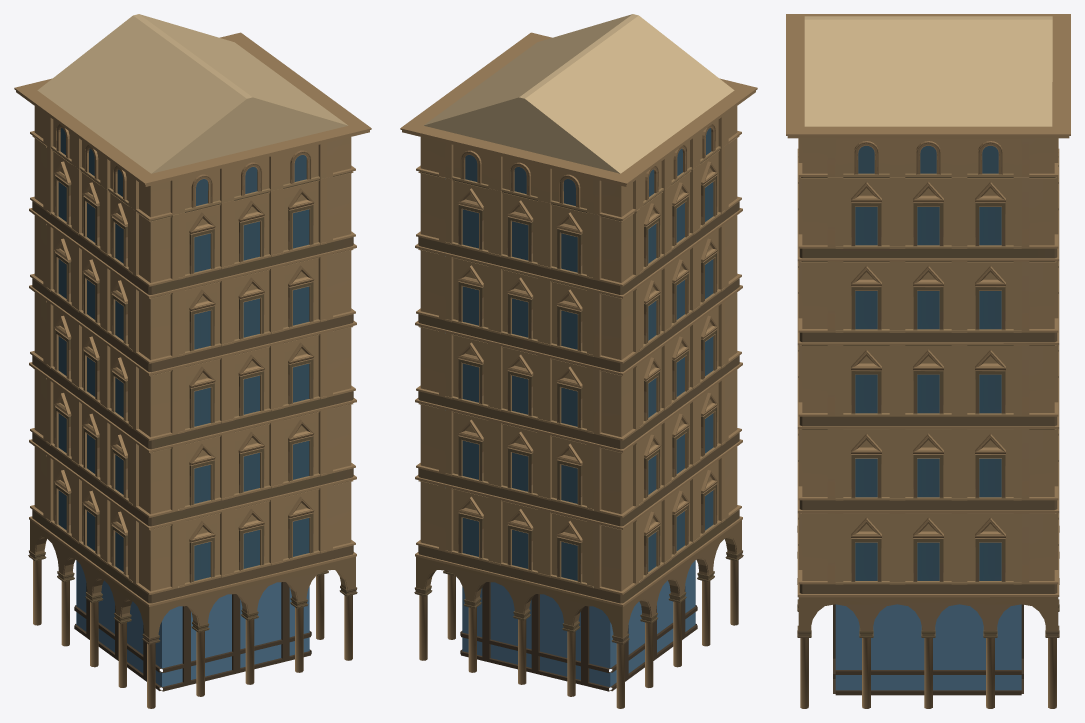
The model's file is v2-buildings-arched-01.glb.
3 views of the same model, side by side, from view 1: azimuth 30°, elevation 25°; view 2: azimuth 150°, elevation 25°; view 3: azimuth 270°, elevation 25° (orthographic). The views are drawn at different scales.
Visible parts, largest first — view 1: arched-building-01; view 2: arched-building-01; view 3: arched-building-01.
Part boxes in pixels (x1,y1,x2,y2): arched-building-01: (14, 14, 371, 708); arched-building-01: (400, 14, 757, 708); arched-building-01: (786, 14, 1070, 708).
Bounding box in the file's own units: 9.19 × 22.67 × 9.19.
1 material, 1 textured.
